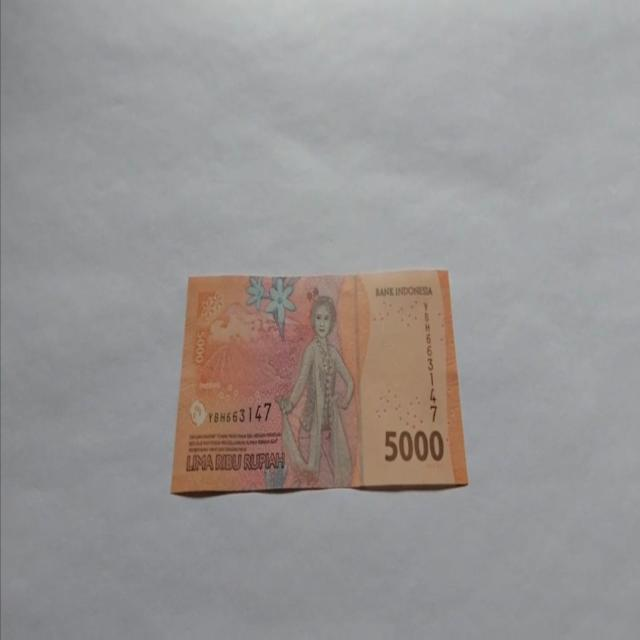lima ribu rupiah: (170, 268, 468, 496), (274, 294, 356, 489)
